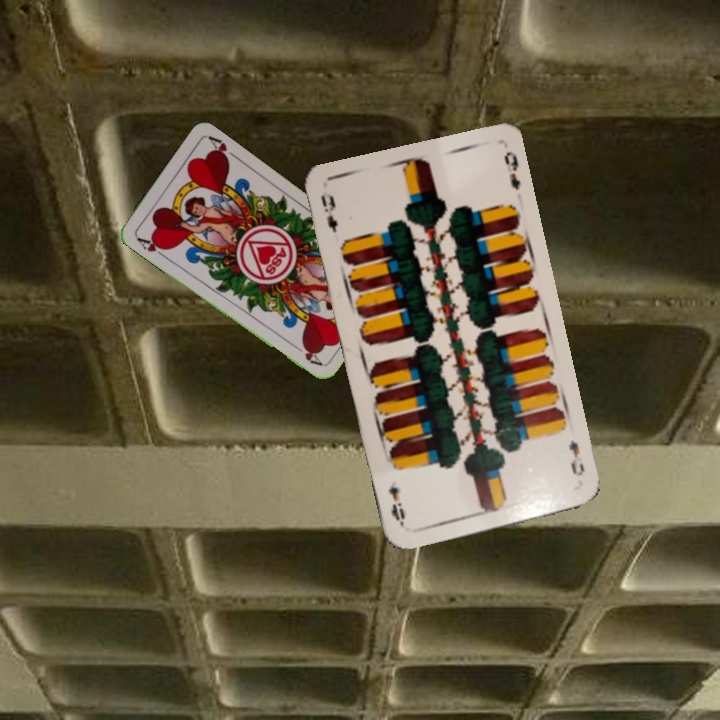E9: (316, 191, 340, 235), (564, 435, 587, 479)
HA: (132, 232, 171, 260)
